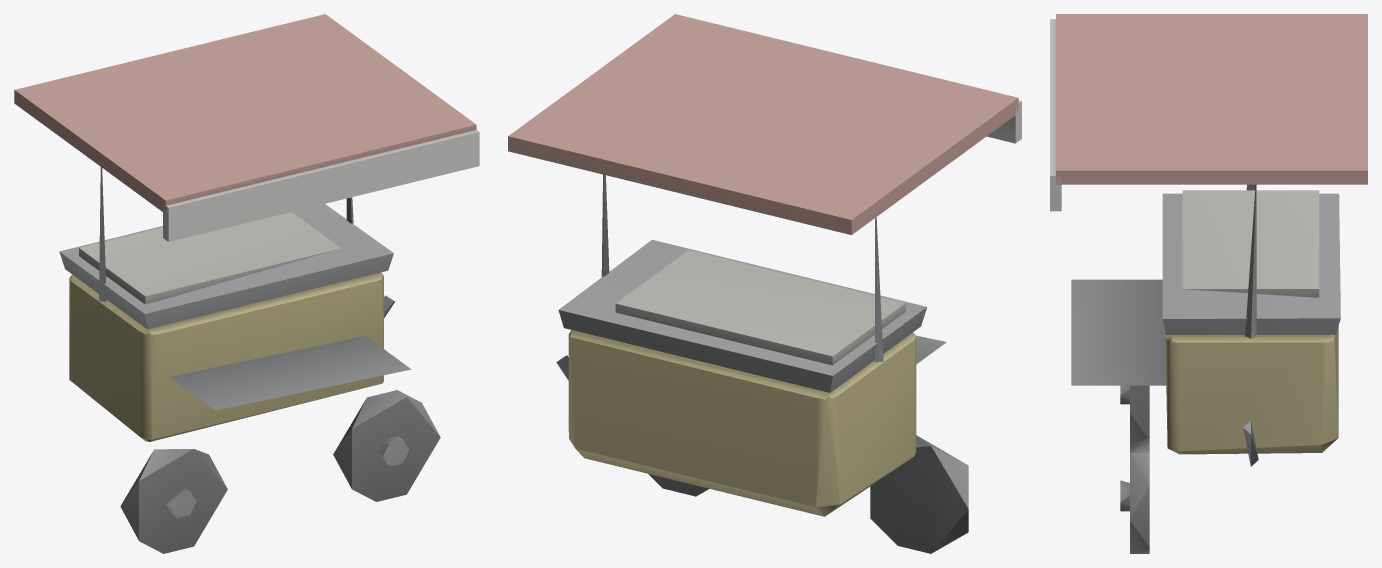
The model's file is hotdog.lod1.glb.
The picture shows the model from 3 angles, left to right: view 1: azimuth 30°, elevation 25°; view 2: azimuth 150°, elevation 25°; view 3: azimuth 270°, elevation 25°; orthographic projection. The views are drawn at different scales.
Size of the model in its own units: 1.98 by 2.27 by 1.63.
